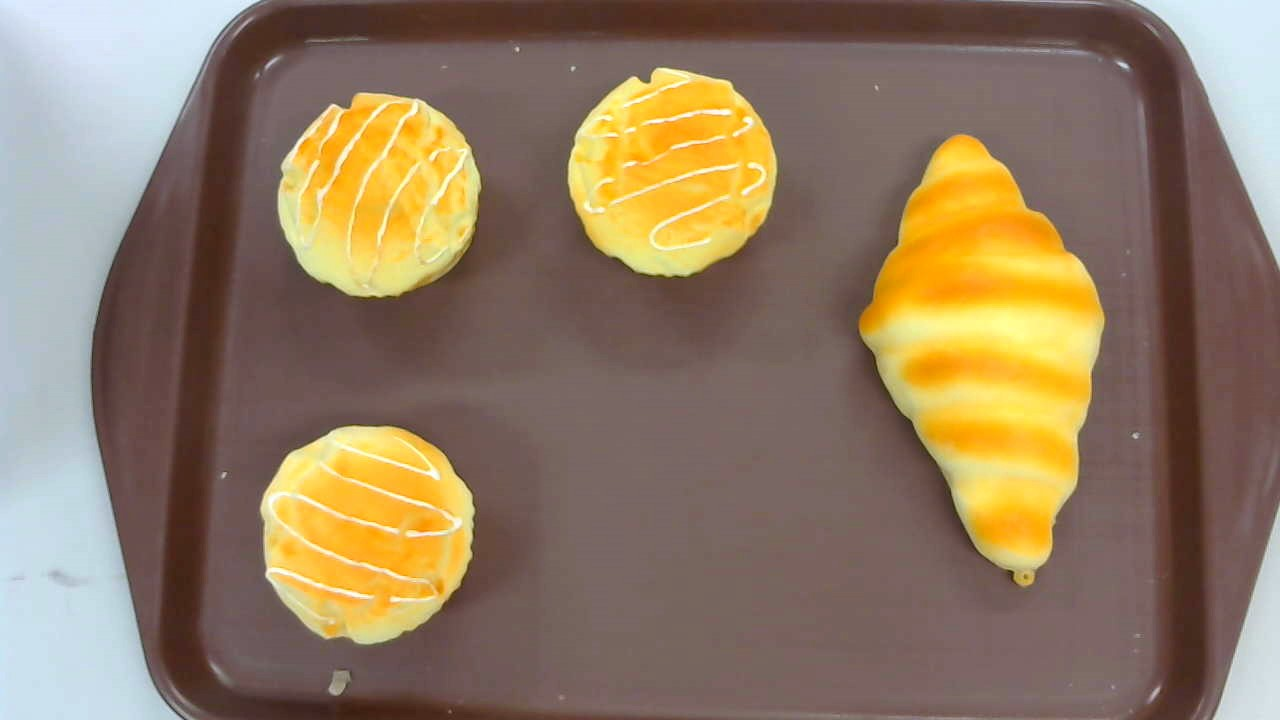croissant: (858, 133, 1105, 589)
cupcake: (260, 425, 476, 645), (568, 67, 778, 278), (276, 92, 482, 300)
